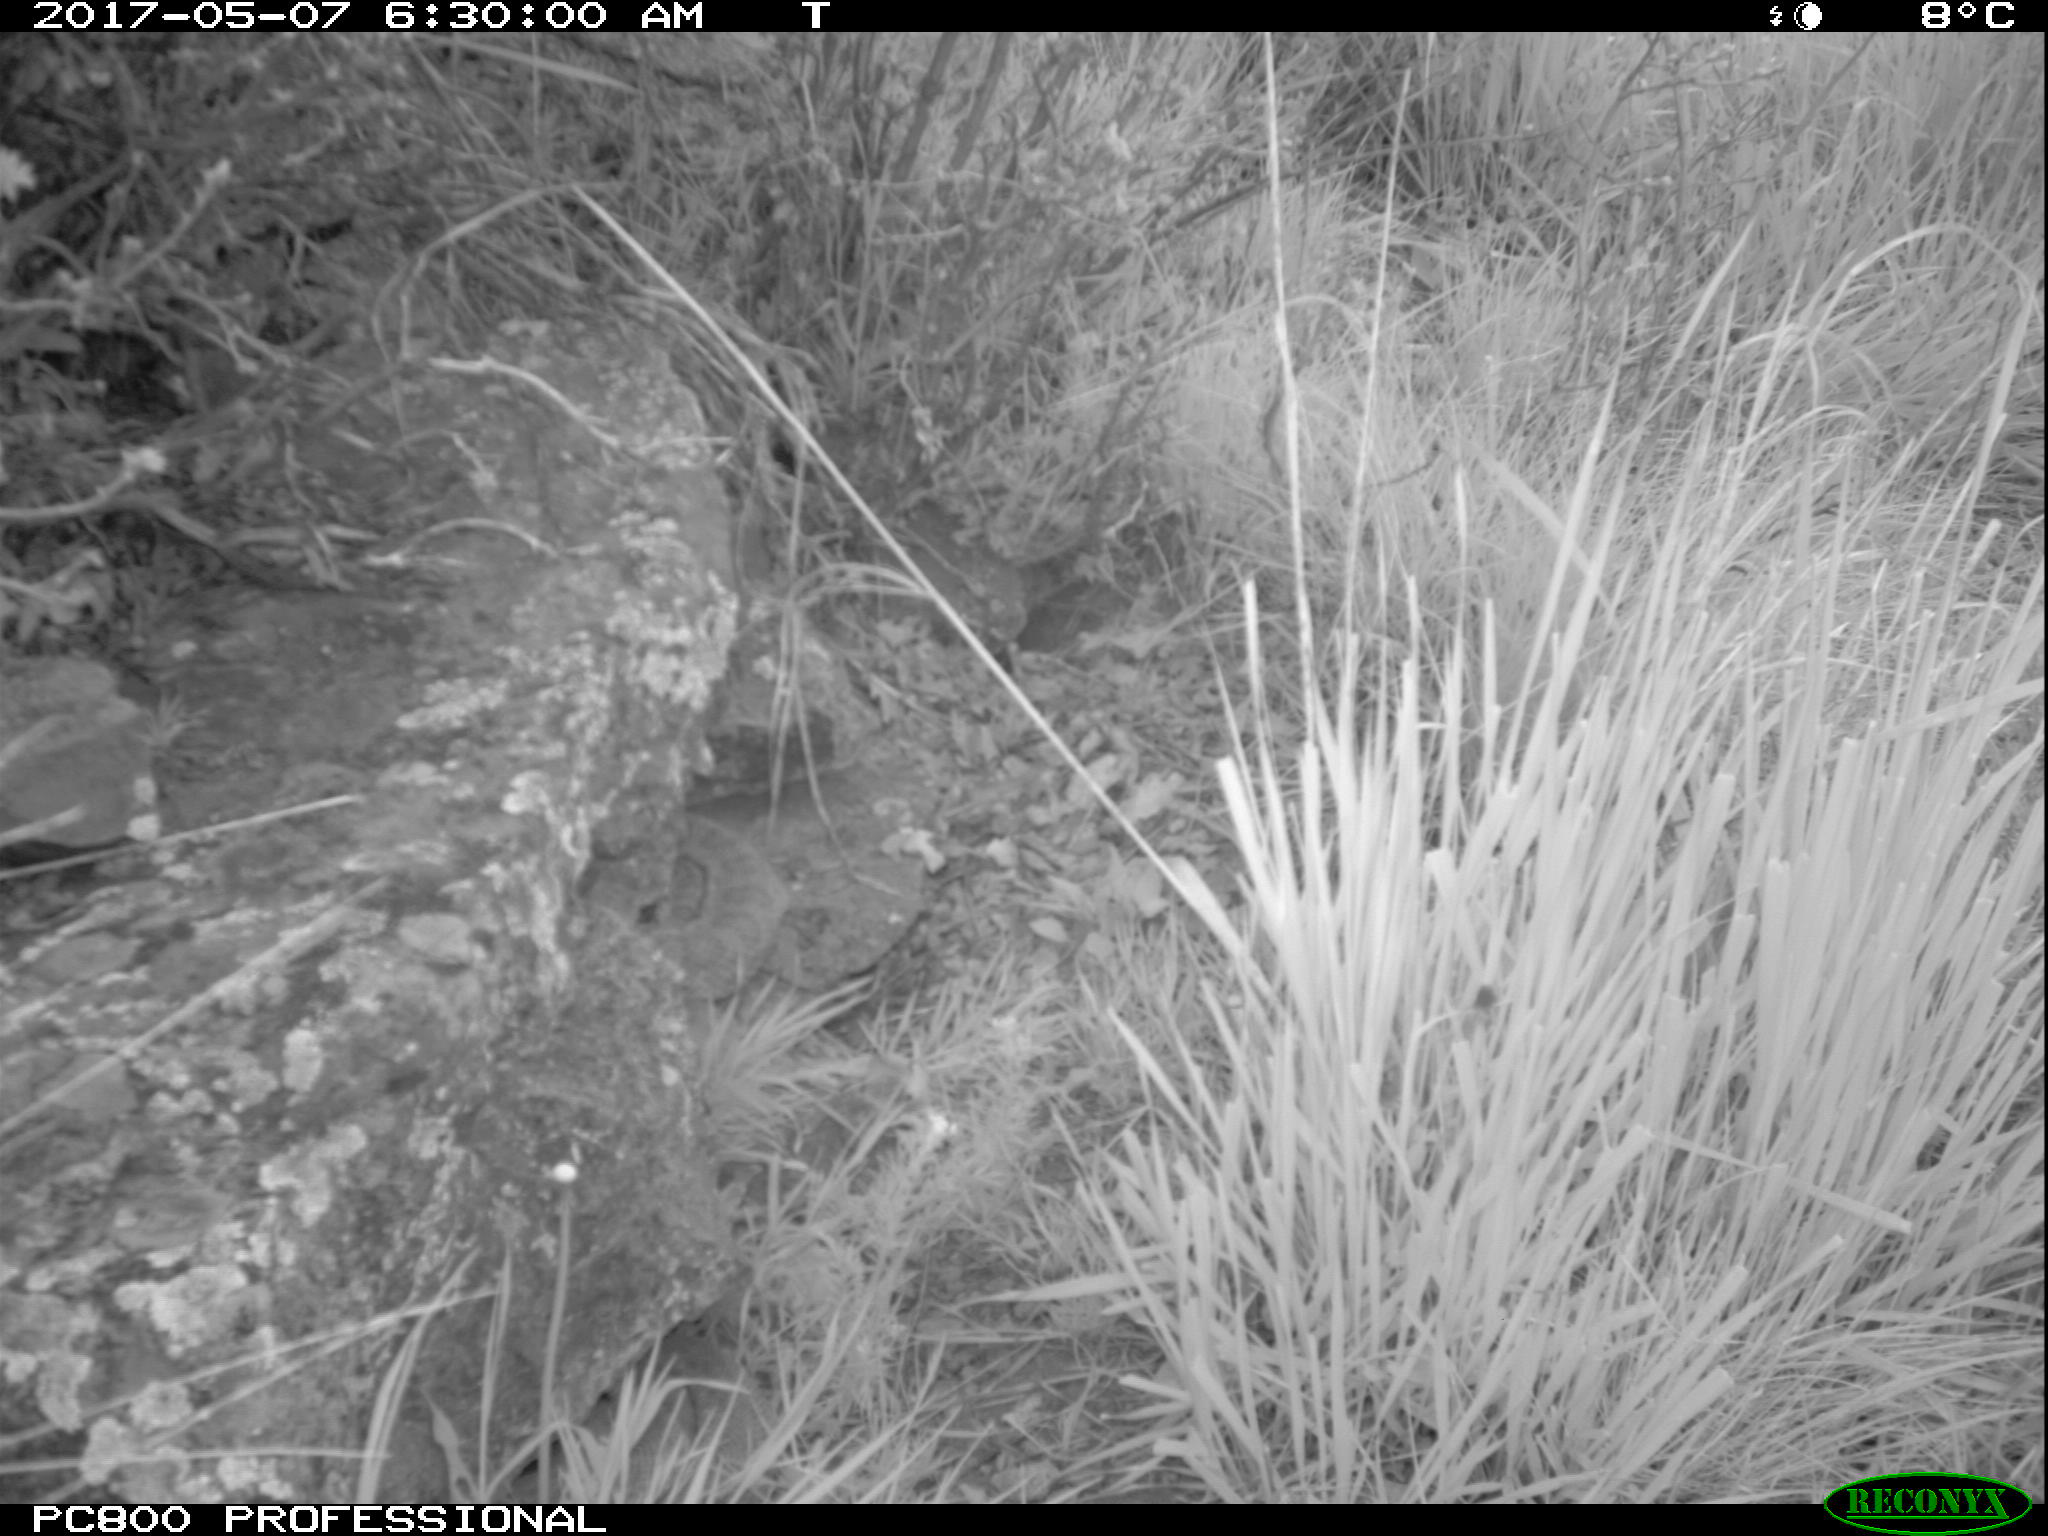snake: (676, 818, 922, 992)
